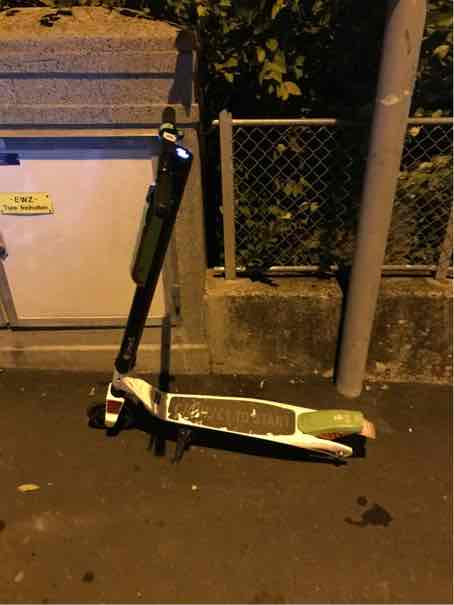scooter: (65, 15, 402, 478)
